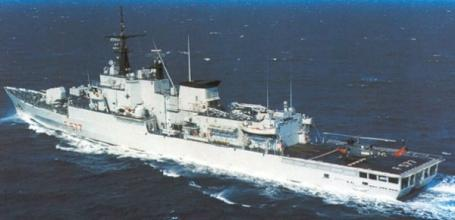warship: (3, 6, 435, 193)
